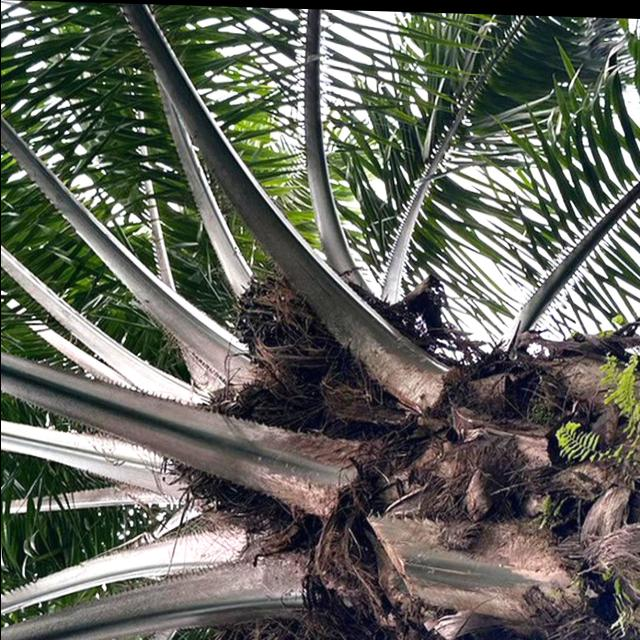unripe: (218, 259, 350, 382)
